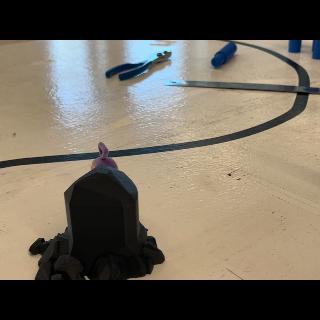teletubby: (91, 142, 118, 170)
